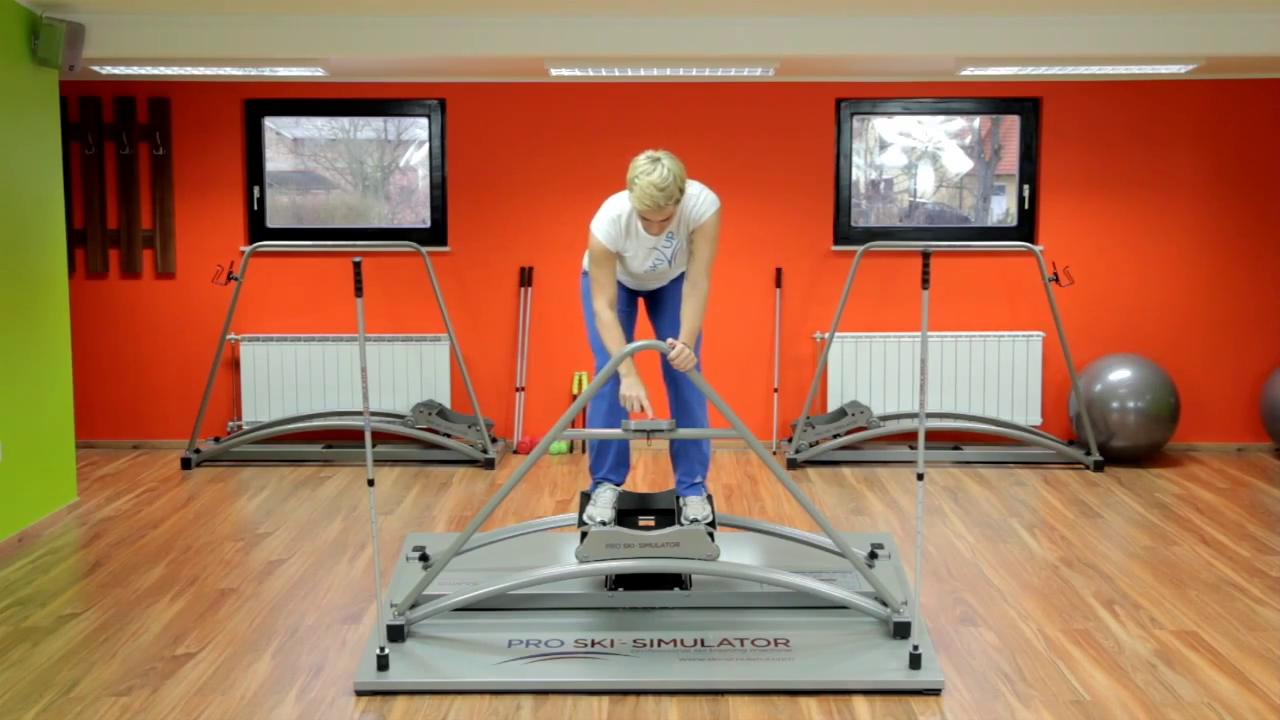person: (582, 148, 720, 527)
